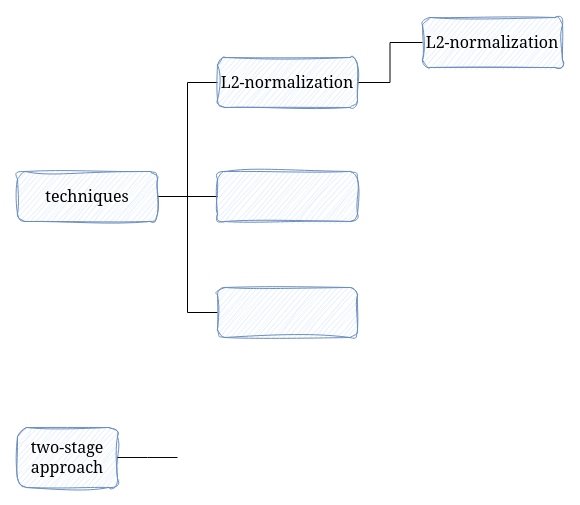
Image size: 580x505. Some labels were removed from this diagram. Here are the shapes that lost their labels. From the top down, the centre of each, then its label:
At (x=287, y=196): "weight decay".
At (x=287, y=312): "MaxNorm".
